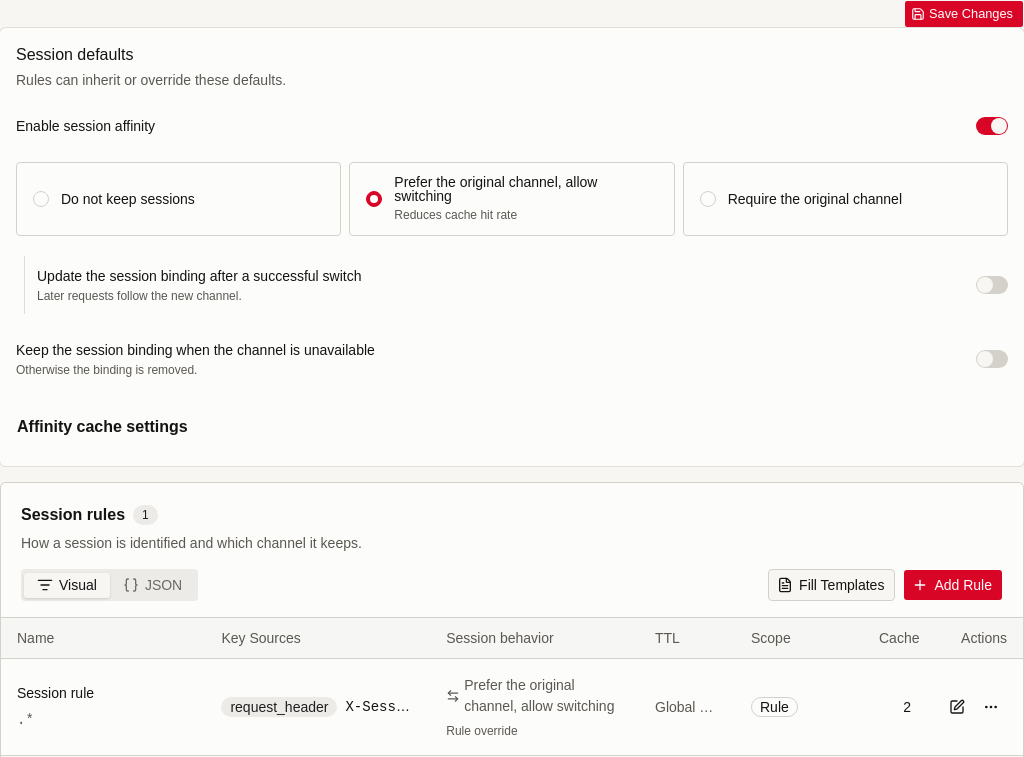
it: opens global affinity settings and the complete rules table without switching views
The width and height of the screenshot is (1024, 757).
Expected: the table is shown, [1,618,1023,754]
Expected: the 2nd radio button named "Prefer the original channel, allow switching" is checked, [366,191,382,207]
What coordinates should you click on to do the following:
click the button "Affinity cache settings"
I would click on:
 (102, 426)
Its box is [16,404,1008,450].
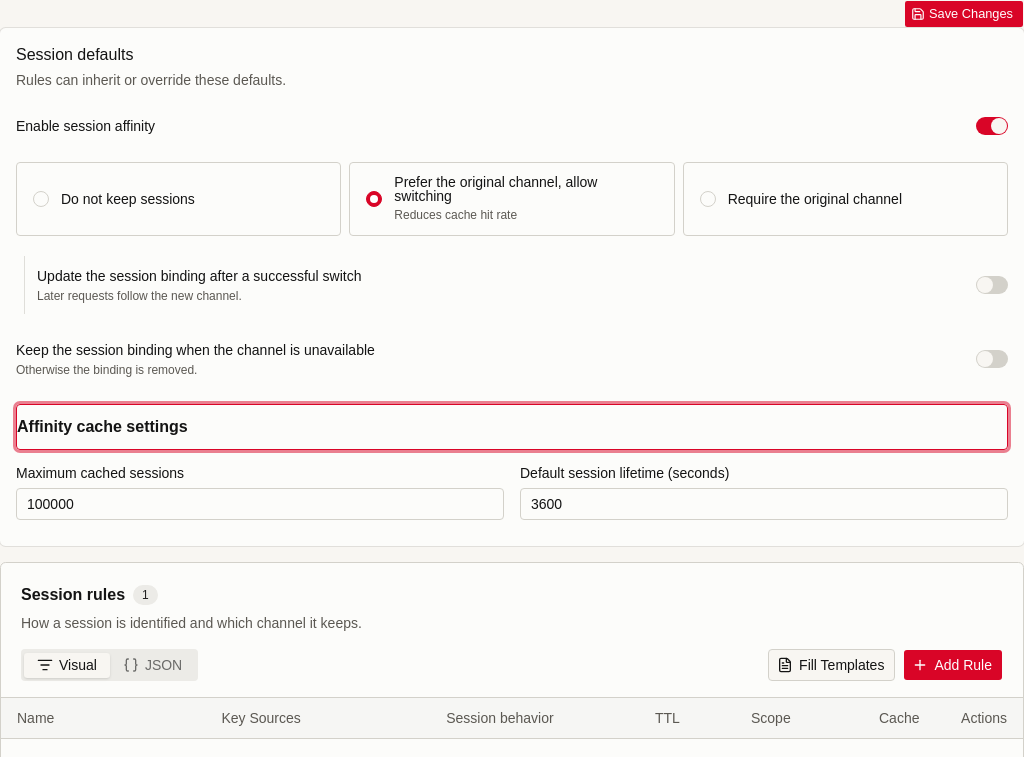
Expected: the switch named "Update the session binding after a successful switch" in the row of "Later requests follow the new channel." is shown, [976,276,1008,294]
Now the number field labelled "Maximum cached sessions" is shown, box [16,488,504,520]
Now the number field labelled "Default session lifetime (seconds)" is shown, box [520,488,1008,520]
